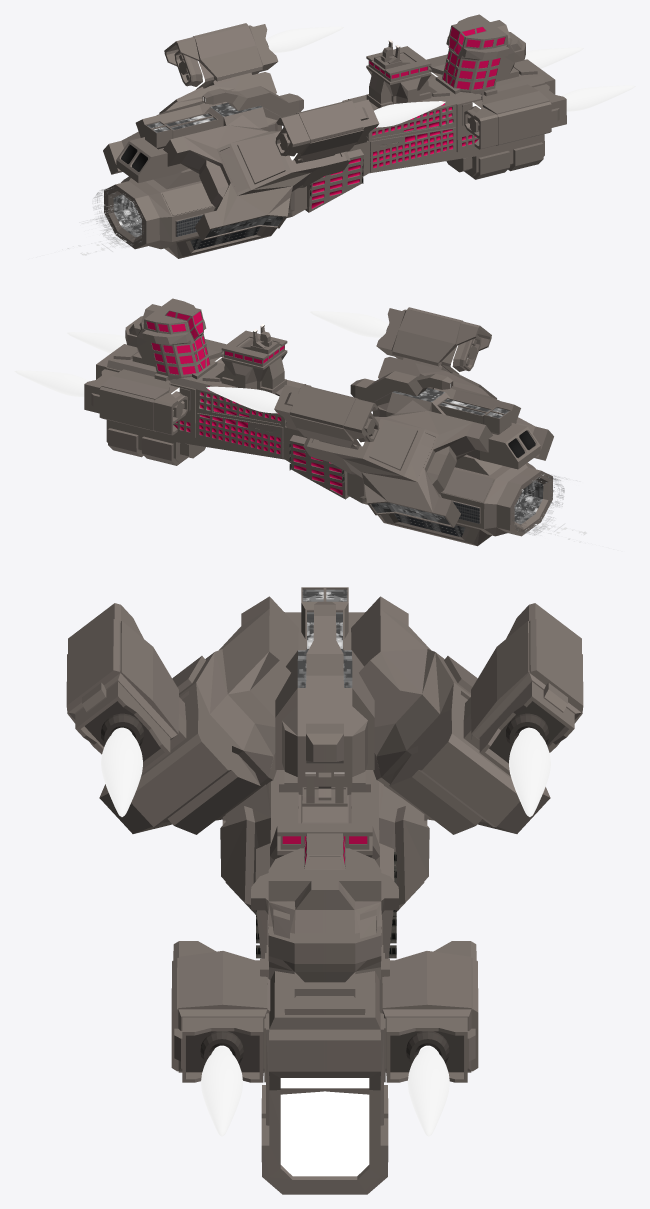
Rendered from spaceship.glb.
The picture shows the model from 3 angles, top to bottom: view 1: azimuth 30°, elevation 25°; view 2: azimuth 150°, elevation 25°; view 3: azimuth 270°, elevation 25°; orthographic projection. The views are drawn at different scales.
Parts seen in each view (by area): view 1: MasterShip, Cylinder.001, Cylinder.002, Cylinder, Cylinder.003, Edges; view 2: MasterShip, Cylinder, Cylinder.003, Cylinder.001, Cylinder.002, Edges; view 3: MasterShip, Cylinder.003, Cylinder.002, Cylinder, Cylinder.001.
Boxes of the visible parts, box(x1,y1,x2,y2) form: MasterShip: box(103, 14, 566, 258); Cylinder.001: box(266, 26, 343, 52); Cylinder.002: box(561, 85, 635, 111); Cylinder: box(374, 101, 445, 127); Cylinder.003: box(524, 47, 583, 68); Edges: box(93, 187, 143, 246); MasterShip: box(84, 298, 553, 546); Cylinder: box(310, 311, 388, 337); Cylinder.003: box(14, 370, 88, 396); Cylinder.001: box(206, 386, 279, 413); Cylinder.002: box(67, 332, 126, 353); Edges: box(512, 474, 564, 534); MasterShip: box(66, 587, 583, 1194); Cylinder.003: box(407, 1047, 449, 1136); Cylinder.002: box(201, 1046, 242, 1136); Cylinder: box(101, 727, 142, 816); Cylinder.001: box(509, 727, 550, 816).
Size of the model in its own units: 9.3 by 2.38 by 3.55.
Materials: 22 (11 with a texture image).
